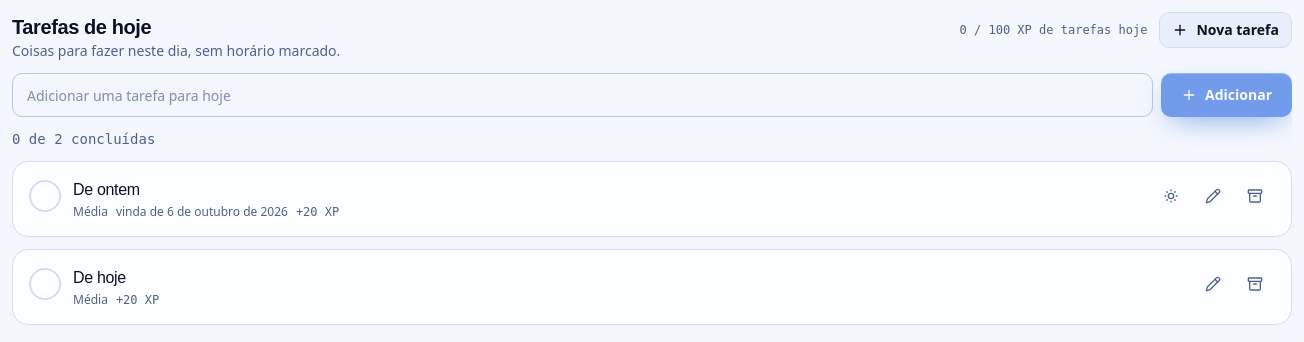
Test: TasksSection (tarefas na tela Hoje) › arquivar e mover › "Para hoje" aparece só em tarefa de outro dia e muda o dia para hoje
The width and height of the screenshot is (1304, 342).
Click the button named "Fazer “De ontem” hoje" at (1171, 196), box [1151, 178, 1191, 214]
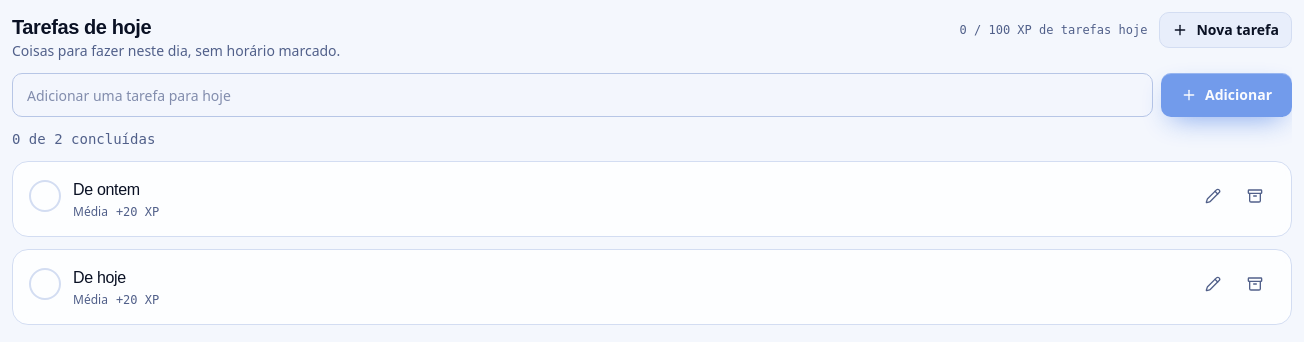
Expected: the text "vinda de" is gone
